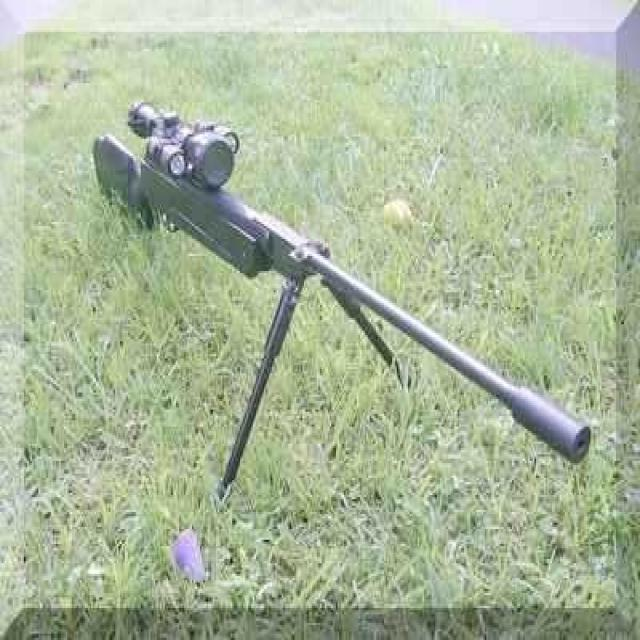heavyweapon: (84, 91, 596, 483)
